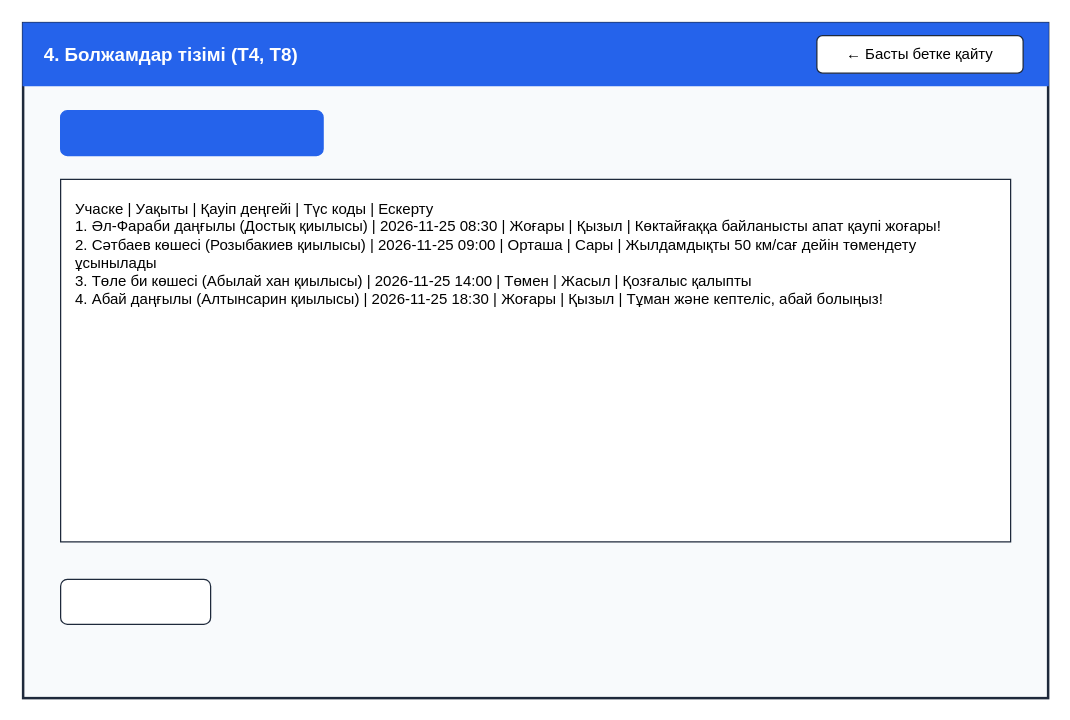
Image size: 1070x720. Some labels were removed from this diagram. The centre of each missing label's shape, as x and y in pixels:
"+ Жаңа болжау формасы" goes at (x=191, y=132).
"Артқа" goes at (x=135, y=601).
